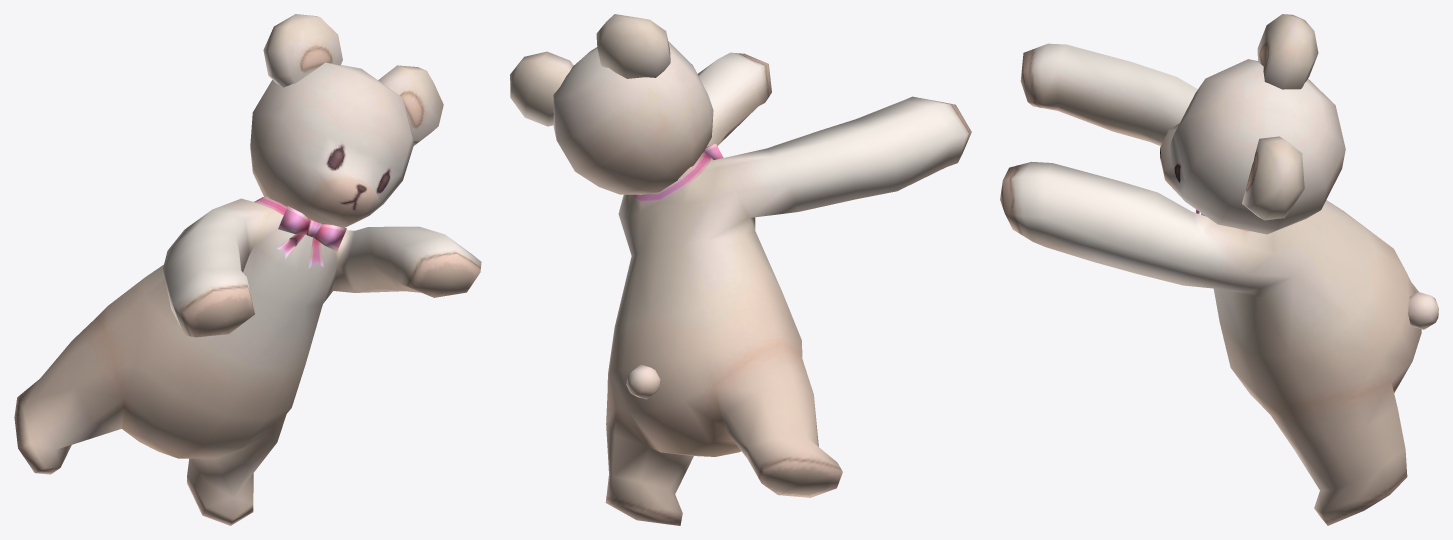
File: acc_back0086.fbx
3 renders of one model, left to right at view 1: azimuth 30°, elevation 25°; view 2: azimuth 150°, elevation 25°; view 3: azimuth 270°, elevation 25°, orthographic. The views are drawn at different scales.
Visible parts, largest first — view 1: acc_back0083_m; view 2: acc_back0083_m; view 3: acc_back0083_m.
Part boxes in pixels (<box>): acc_back0083_m: <box>14,14,481,525</box>; acc_back0083_m: <box>510,14,971,525</box>; acc_back0083_m: <box>1000,14,1438,525</box>.
Bounding box in the file's own units: 0.3593 × 0.4548 × 0.3435.
1 material, 1 textured.
